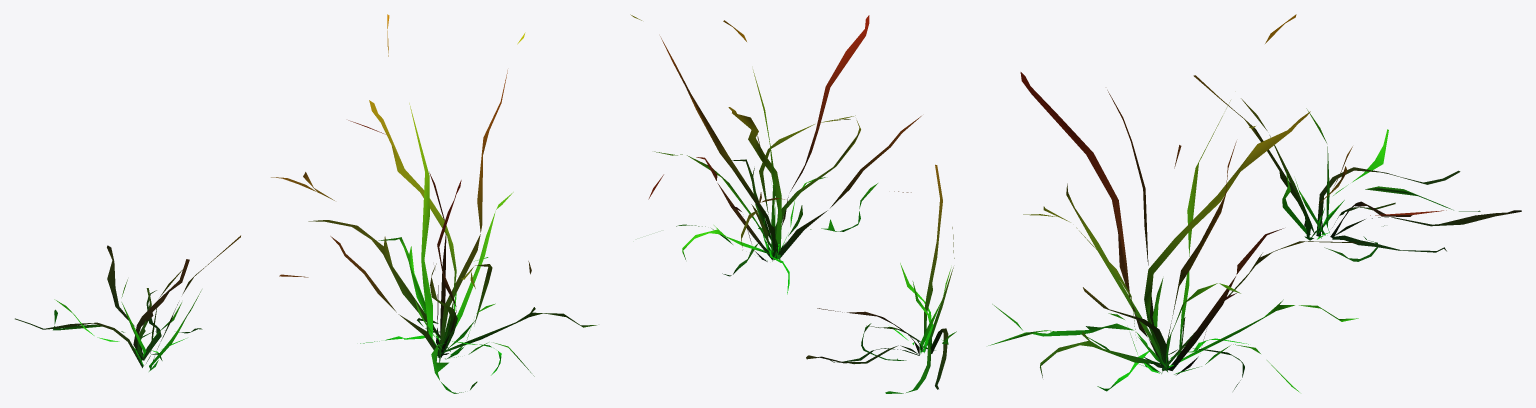
Rendered from SM_OW_GrassTuft_b_LOD1.fbx.
3 views of the same model, side by side, from view 1: azimuth 30°, elevation 25°; view 2: azimuth 150°, elevation 25°; view 3: azimuth 270°, elevation 25° (orthographic). The views are drawn at different scales.
Parts seen in each view (by area): view 1: SM_OW_GrassTuft_b_LOD1; view 2: SM_OW_GrassTuft_b_LOD1; view 3: SM_OW_GrassTuft_b_LOD1.
Boxes of the visible parts, x1=… form: SM_OW_GrassTuft_b_LOD1: x1=15, y1=14, x2=596, y2=393; SM_OW_GrassTuft_b_LOD1: x1=630, y1=14, x2=956, y2=393; SM_OW_GrassTuft_b_LOD1: x1=988, y1=14, x2=1521, y2=392.
Bounding box in the file's own units: 0.4065 × 0.2813 × 0.3742.
